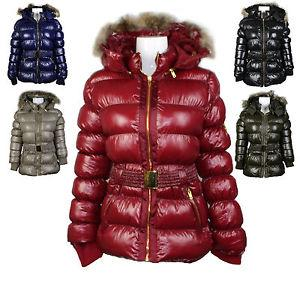C_jacket: (64, 6, 250, 271), (3, 1, 73, 89), (4, 89, 71, 179), (231, 89, 296, 180), (230, 1, 295, 89)
